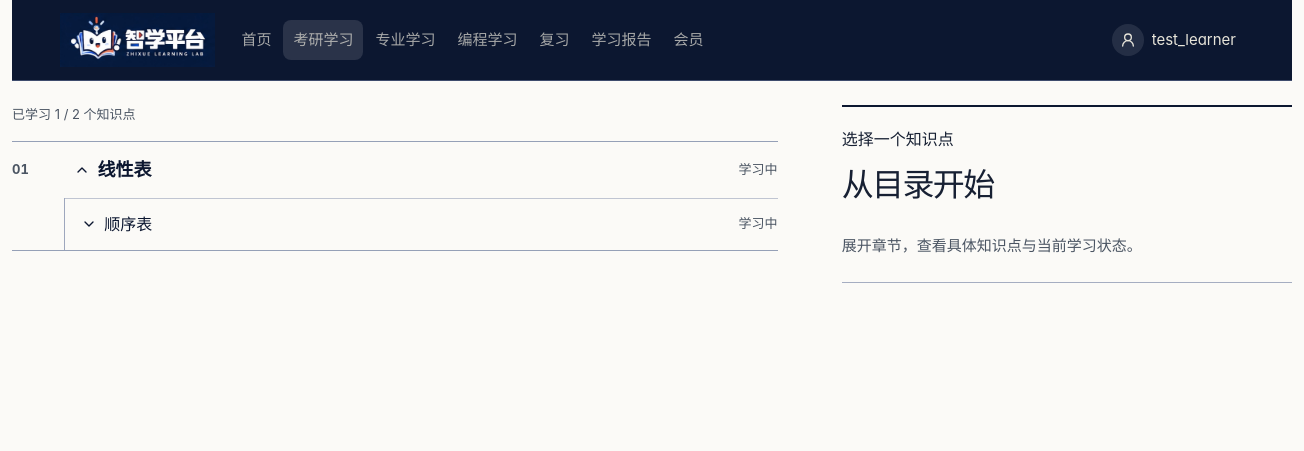
Cs408KnowledgeWorkspace › carries no deep-reasoning panel: the point has one AI action, and it is the paper chat
This screenshot has width=1304, height=451.
Click the button with aria-label "展开 顺序表": [128, 224] box 81,202 -> 728,246
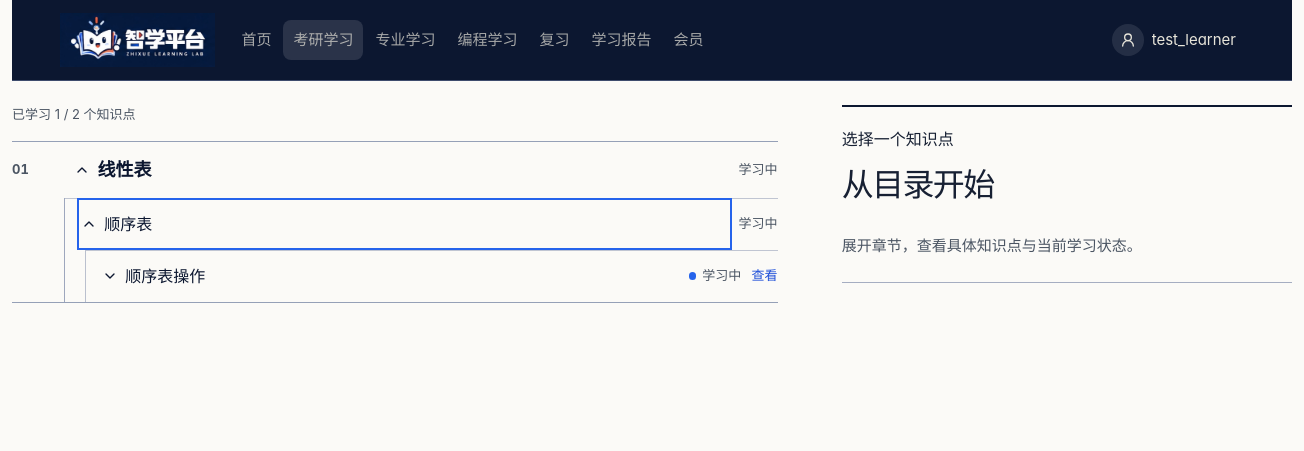
Click the button with aria-label "展开 顺序表操作": [165, 276] box 102,254 -> 678,298
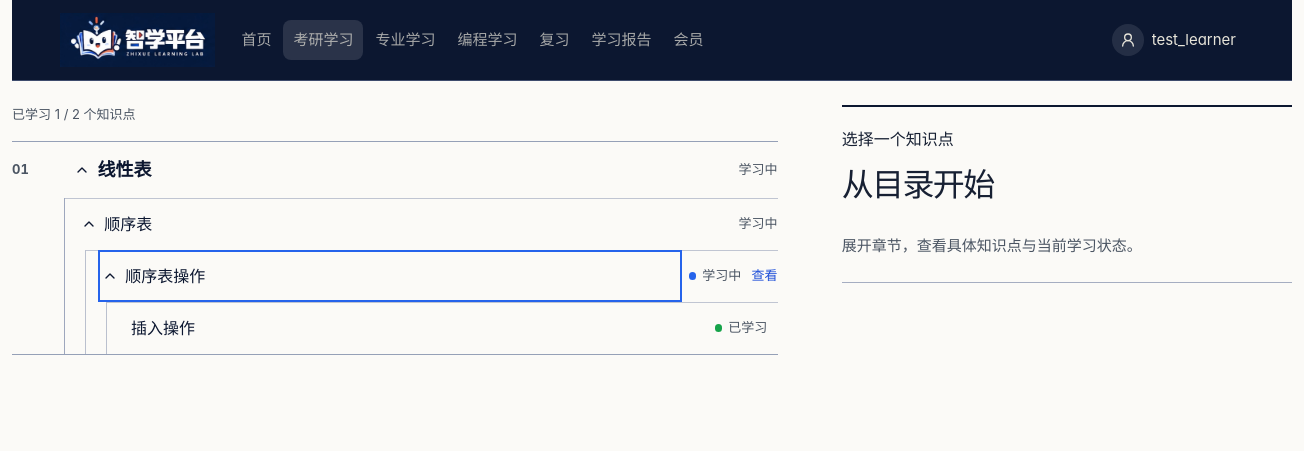
Click the button with aria-label "选择 插入操作": [163, 328] box 131,306 -> 704,350
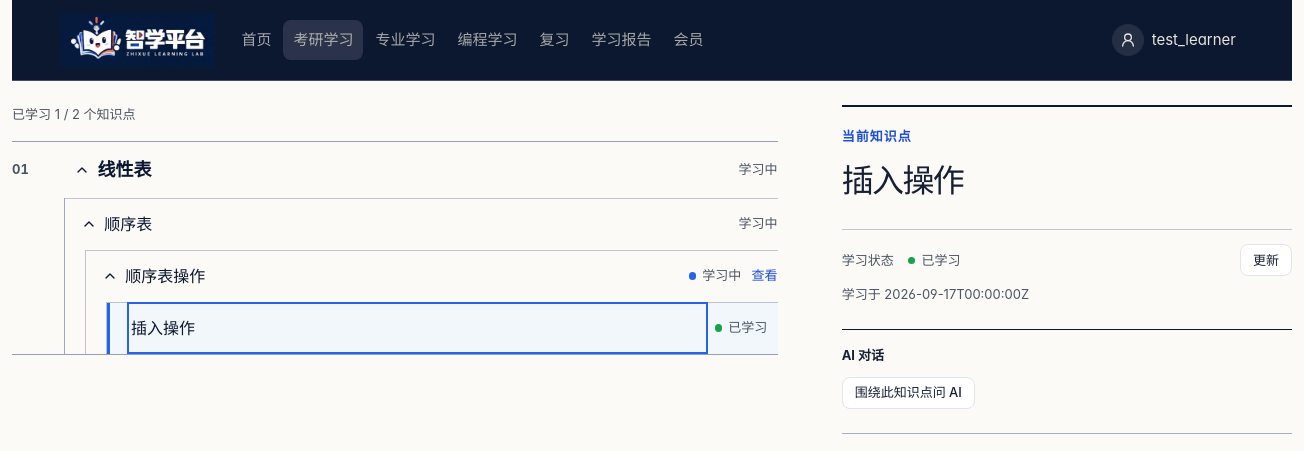
Check: the number of links "围绕此知识点问 AI" is 1, box 842,377 -> 975,409
